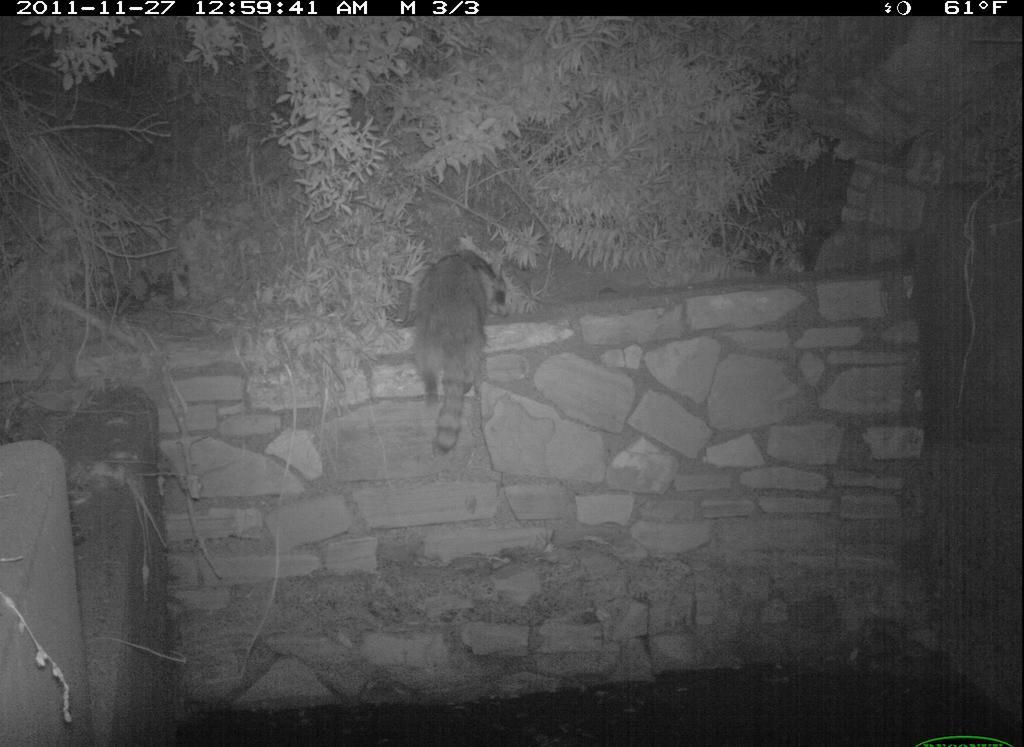raccoon: (400, 245, 519, 463)
